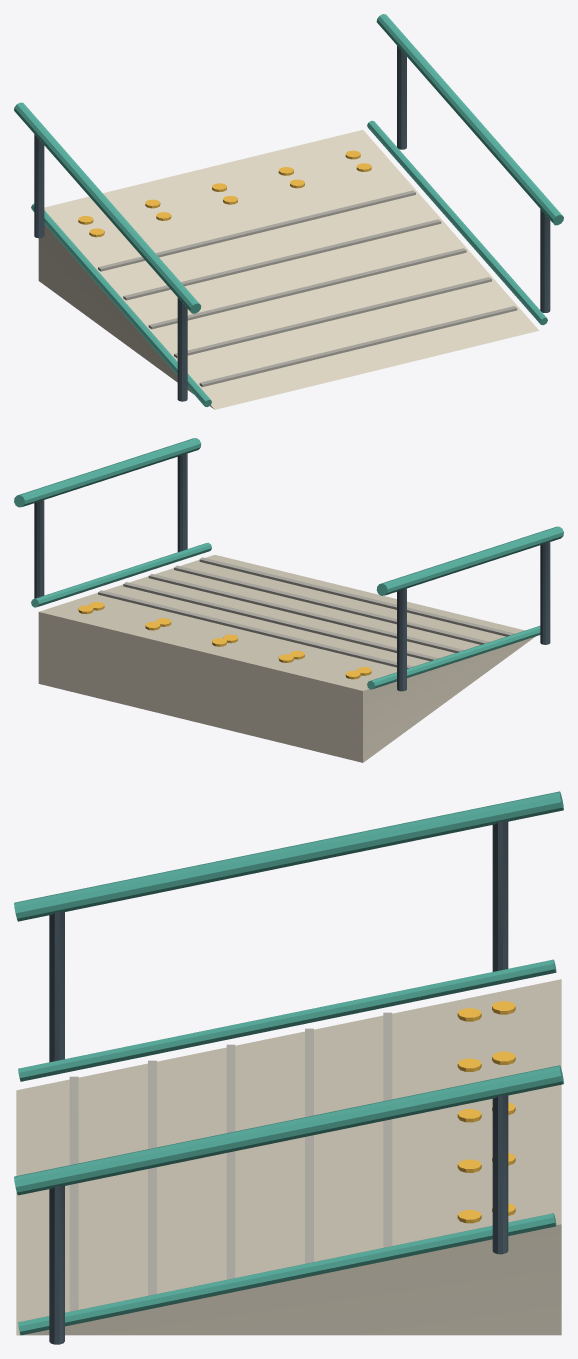
File: access-ramp.glb
3 views of the same model, one above another, from view 1: azimuth 30°, elevation 25°; view 2: azimuth 150°, elevation 25°; view 3: azimuth 270°, elevation 25° (orthographic). The views are drawn at different scales.
Parts seen in each view (by area): view 1: ramp, ramp handrail, non slip tread, ramp railing post, tactile stud; view 2: ramp, non slip tread, ramp handrail, ramp railing post, tactile stud; view 3: ramp, ramp handrail, non slip tread, ramp railing post, tactile stud.
Part boxes in pixels (box(x1,y1,x2,y2)): ramp: box(38, 130, 538, 409); ramp handrail: box(14, 14, 563, 407); non slip tread: box(98, 190, 517, 386); ramp railing post: box(34, 46, 550, 401); tactile stud: box(78, 150, 371, 237); ramp: box(38, 555, 535, 762); non slip tread: box(98, 557, 514, 668); ramp handrail: box(14, 438, 563, 689); ramp railing post: box(34, 452, 550, 691); tactile stud: box(78, 601, 371, 679); ramp: box(16, 979, 561, 1335); ramp handrail: box(14, 791, 563, 1335); non slip tread: box(69, 1012, 392, 1311); ramp railing post: box(49, 821, 508, 1344); tactile stud: box(457, 1001, 515, 1223).
Bounding box in the file's own units: 1.96 × 0.9183 × 1.61.
